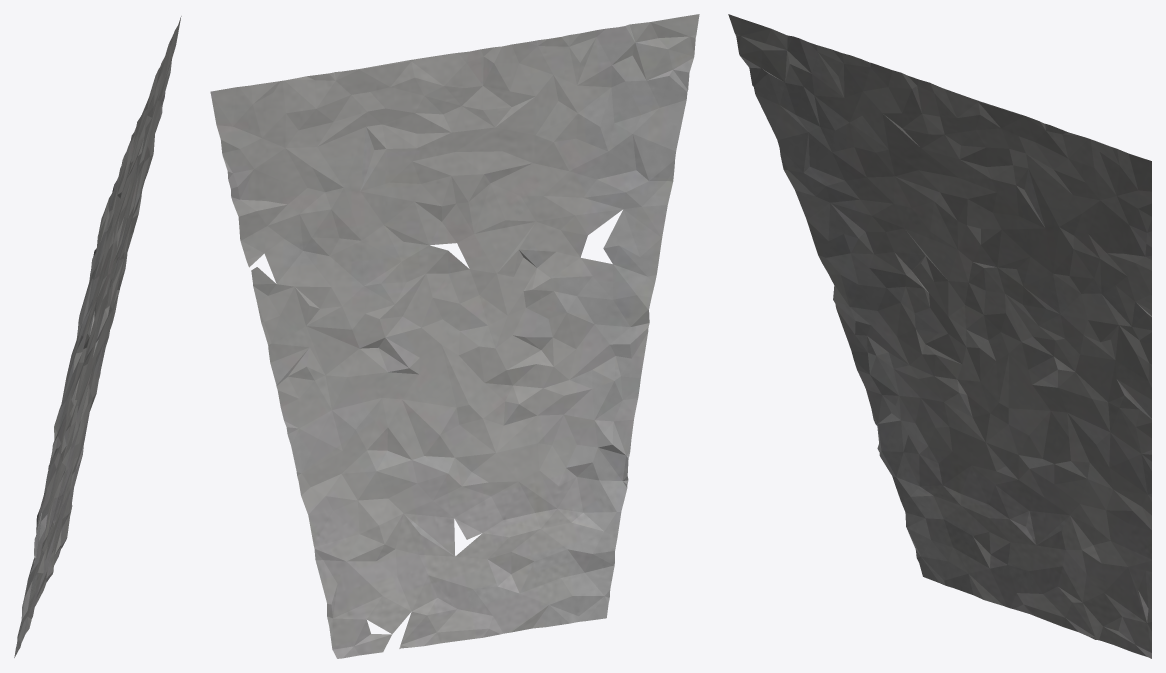
3 views of the same model, side by side, from view 1: azimuth 30°, elevation 25°; view 2: azimuth 150°, elevation 25°; view 3: azimuth 270°, elevation 25° (orthographic). The views are drawn at different scales.
Bounding box in the file's own units: 0.4695 × 0.8374 × 0.5713.
Materials: 2 (2 with a texture image).
